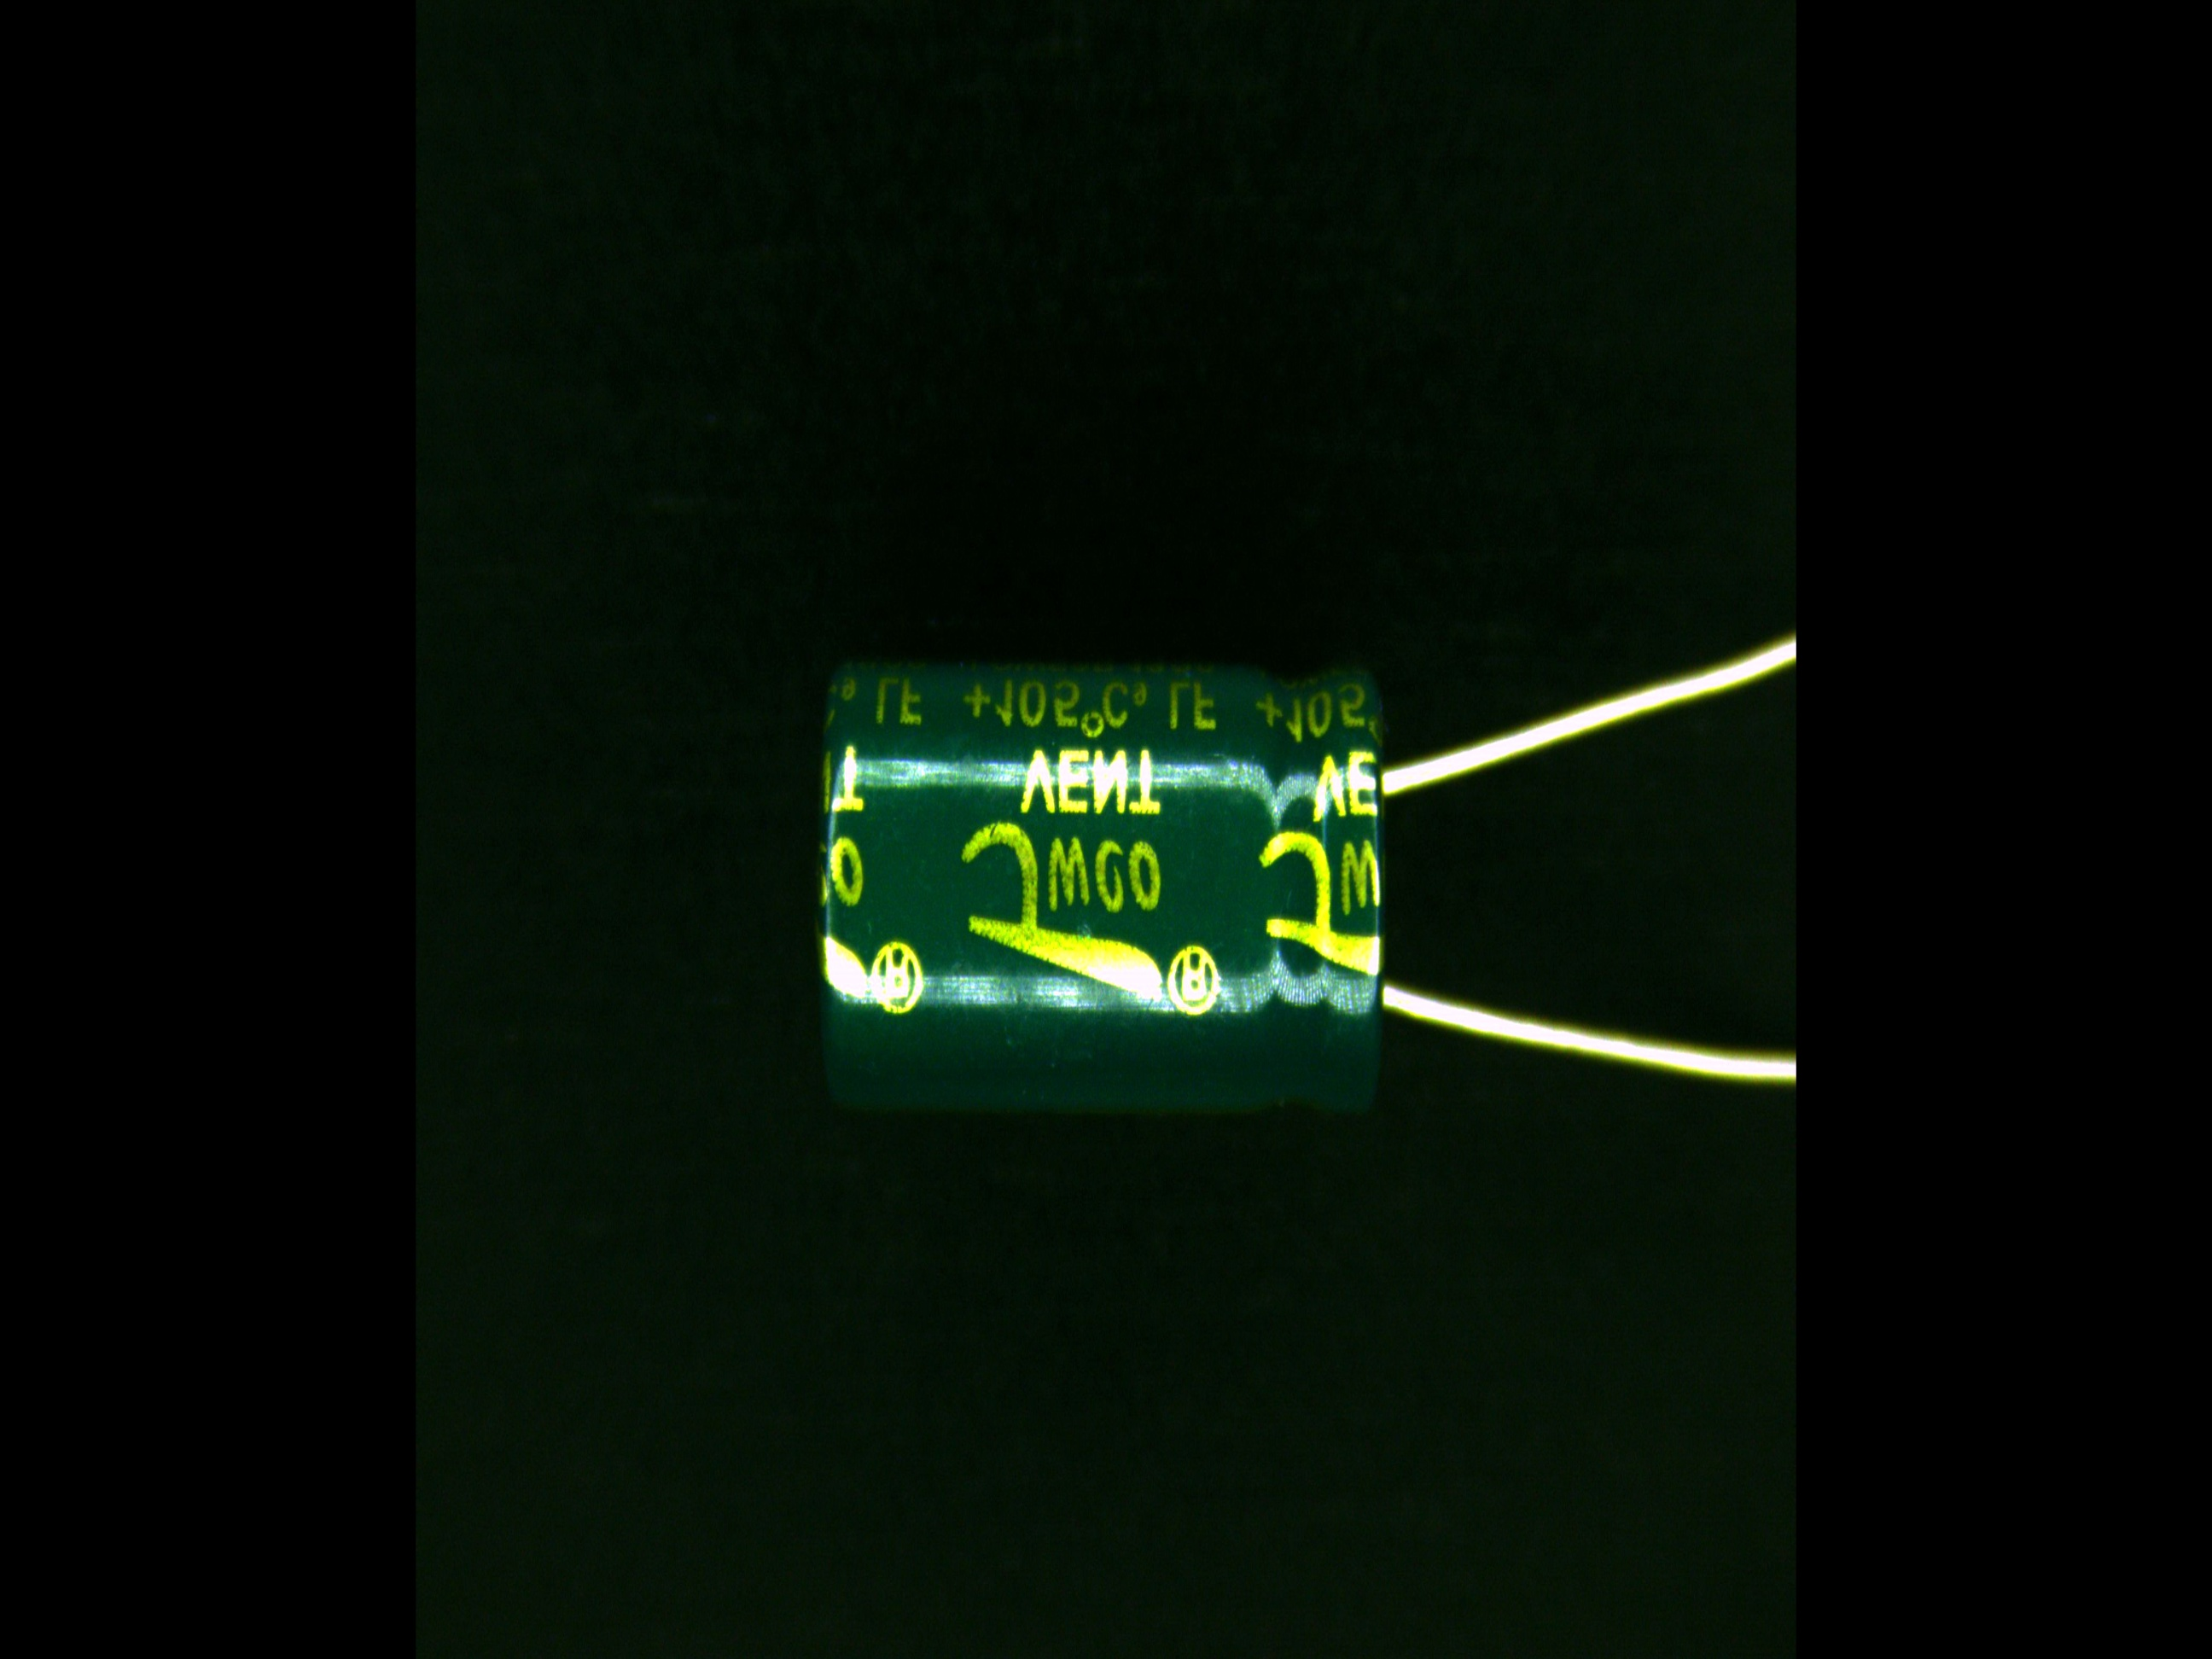c1: (815, 653, 1472, 1114)
